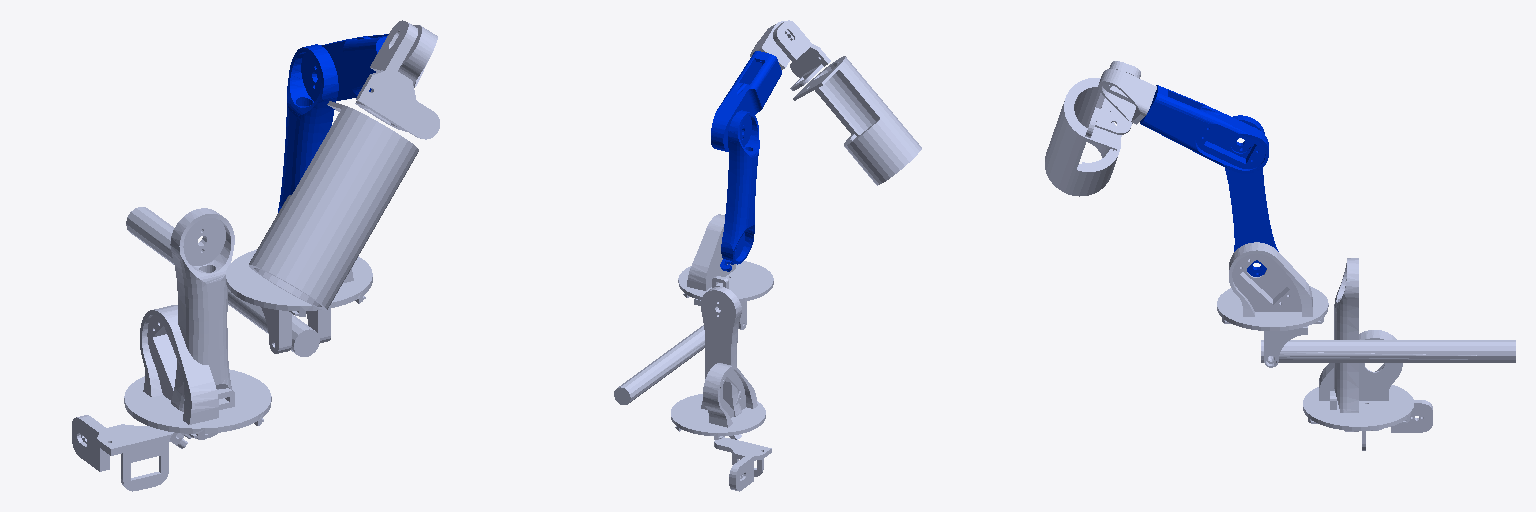
robot.urdf — Robotic Arm:
<?xml version="1.0" encoding="utf-8"?>
<!-- This URDF was automatically created by SolidWorks to URDF Exporter! Originally created by [author] ([email redacted]) 
     Commit Version: 1.5.1-0-g916b5db  Build Version: 1.5.7152.31018
     For more information, please see http://wiki.ros.org/sw_urdf_exporter -->
<robot
  name="Robotic Arm">
  <link
    name="base_link">
    <inertial>
      <origin
        xyz="0.0354275091164067 0.0860531596196477 0.00648548293590935"
        rpy="0 0 0" />
      <mass
        value="0.275032782312545" />
      <inertia
        ixx="0.000810030844367955"
        ixy="-5.73621090192133E-06"
        ixz="-6.15057500267126E-07"
        iyy="0.000808938381015043"
        iyz="-5.42961156778192E-06"
        izz="6.27510063140814E-05" />
    </inertial>
    <visual>
      <origin
        xyz="0 0 0"
        rpy="0 0 0" />
      <geometry>
        <mesh
          filename="package://Robotic Arm/meshes/base_link.STL" />
      </geometry>
      <material
        name="">
        <color
          rgba="0.796078431372549 0.823529411764706 0.937254901960784 1" />
      </material>
    </visual>
    <collision>
      <origin
        xyz="0 0 0"
        rpy="0 0 0" />
      <geometry>
        <mesh
          filename="package://Robotic Arm/meshes/base_link.STL" />
      </geometry>
    </collision>
  </link>
  <link
    name="link_1">
    <inertial>
      <origin
        xyz="-0.000393315930239273 0.0553475593437023 -0.0103842235740476"
        rpy="0 0 0" />
      <mass
        value="0.135904321358194" />
      <inertia
        ixx="0.000173351570610532"
        ixy="5.82675705255485E-06"
        ixz="-6.99195144228511E-07"
        iyy="6.91908019440323E-05"
        iyz="1.77097267020921E-05"
        izz="0.000153884357507163" />
    </inertial>
    <visual>
      <origin
        xyz="0 0 0"
        rpy="0 0 0" />
      <geometry>
        <mesh
          filename="package://Robotic Arm/meshes/link_1.STL" />
      </geometry>
      <material
        name="">
        <color
          rgba="0.792156862745098 0.819607843137255 0.933333333333333 1" />
      </material>
    </visual>
    <collision>
      <origin
        xyz="0 0 0"
        rpy="0 0 0" />
      <geometry>
        <mesh
          filename="package://Robotic Arm/meshes/link_1.STL" />
      </geometry>
    </collision>
  </link>
  <joint
    name="JOINT_1"
    type="planar">
    <origin
      xyz="0.033862 -0.074577 0.11126"
      rpy="1.5708 0 3.1416" />
    <parent
      link="base_link" />
    <child
      link="link_1" />
    <axis
      xyz="0 0 0" />
  </joint>
  <link
    name="linK_2">
    <inertial>
      <origin
        xyz="0.0141702157268695 0.0951964093832231 -0.000288116620240093"
        rpy="0 0 0" />
      <mass
        value="0.114660978957132" />
      <inertia
        ixx="0.000130416679289904"
        ixy="-2.09773812627836E-05"
        ixz="2.39117651111217E-07"
        iyy="4.96191430822004E-05"
        iyz="3.9962444469317E-07"
        izz="0.000169993769730356" />
    </inertial>
    <visual>
      <origin
        xyz="0 0 0"
        rpy="0 0 0" />
      <geometry>
        <mesh
          filename="package://Robotic Arm/meshes/linK_2.STL" />
      </geometry>
      <material
        name="">
        <color
          rgba="0 0.254901960784314 0.92156862745098 1" />
      </material>
    </visual>
    <collision>
      <origin
        xyz="0 0 0"
        rpy="0 0 0" />
      <geometry>
        <mesh
          filename="package://Robotic Arm/meshes/linK_2.STL" />
      </geometry>
    </collision>
  </link>
  <joint
    name="JOINT_2"
    type="revolute">
    <origin
      xyz="-0.0018 0.040453 -0.013742"
      rpy="-1.5708 1.4535 -1.5708" />
    <parent
      link="link_1" />
    <child
      link="linK_2" />
    <axis
      xyz="0 0 0" />
    <limit
      lower="0"
      upper="0"
      effort="0"
      velocity="0" />
  </joint>
  <link
    name="LINK_3">
    <inertial>
      <origin
        xyz="-0.00716145222433959 0.053598662690554 -0.00750767047233196"
        rpy="0 0 0" />
      <mass
        value="0.0333720263204095" />
      <inertia
        ixx="8.62219883298596E-06"
        ixy="-2.84700139414277E-08"
        ixz="2.54177997994455E-06"
        iyy="1.20168522527192E-05"
        iyz="4.22972433397009E-07"
        izz="1.24475265556569E-05" />
    </inertial>
    <visual>
      <origin
        xyz="0 0 0"
        rpy="0 0 0" />
      <geometry>
        <mesh
          filename="package://Robotic Arm/meshes/LINK_3.STL" />
      </geometry>
      <material
        name="">
        <color
          rgba="0.792156862745098 0.819607843137255 0.933333333333333 1" />
      </material>
    </visual>
    <collision>
      <origin
        xyz="0 0 0"
        rpy="0 0 0" />
      <geometry>
        <mesh
          filename="package://Robotic Arm/meshes/LINK_3.STL" />
      </geometry>
    </collision>
  </link>
  <joint
    name="joint_3"
    type="continuous">
    <origin
      xyz="0.053616 0.14982 -0.0107"
      rpy="3.1416 0.73506 2.1608" />
    <parent
      link="linK_2" />
    <child
      link="LINK_3" />
    <axis
      xyz="0 1 0" />
  </joint>
  <link
    name="link_4">
    <inertial>
      <origin
        xyz="-0.0058019600376987 0.0157070940891549 0.111375176311267"
        rpy="0 0 0" />
      <mass
        value="0.143983849137224" />
      <inertia
        ixx="0.00020807815737997"
        ixy="-5.43151883451144E-07"
        ixz="-2.53143153196137E-06"
        iyy="0.000214709116341721"
        iyz="2.1892872754879E-05"
        izz="8.54219878142615E-05" />
    </inertial>
    <visual>
      <origin
        xyz="0 0 0"
        rpy="0 0 0" />
      <geometry>
        <mesh
          filename="package://Robotic Arm/meshes/link_4.STL" />
      </geometry>
      <material
        name="">
        <color
          rgba="0.792156862745098 0.819607843137255 0.933333333333333 1" />
      </material>
    </visual>
    <collision>
      <origin
        xyz="0 0 0"
        rpy="0 0 0" />
      <geometry>
        <mesh
          filename="package://Robotic Arm/meshes/link_4.STL" />
      </geometry>
    </collision>
  </link>
  <joint
    name="joint_4"
    type="revolute">
    <origin
      xyz="0.005 0.058457 0"
      rpy="1.1704 -1.5708 -0.95393" />
    <parent
      link="LINK_3" />
    <child
      link="link_4" />
    <axis
      xyz="1 0 0" />
    <limit
      lower="0"
      upper="0"
      effort="0"
      velocity="0" />
  </joint>
</robot>

--- Facts derived from the render (not from the file) ---
3 views of the same robot in one strip: view 1: azimuth 30°, elevation 25°; view 2: azimuth 150°, elevation 25°; view 3: azimuth 270°, elevation 25° (orthographic).
Robot: Robotic Arm — 5 links, 4 joints (2 revolute, 1 continuous, 1 planar); root link base_link; default pose: all joints at 0.
Links seen in each view (by area): view 1: link_4, base_link, link_1, linK_2, LINK_3; view 2: link_4, linK_2, link_1, base_link, LINK_3; view 3: base_link, link_1, linK_2, link_4, LINK_3.
Link boxes in pixels (box(x1,y1,x2,y2)): link_4: box(249, 20, 439, 310); base_link: box(124, 207, 330, 439); link_1: box(170, 208, 372, 448); linK_2: box(278, 34, 388, 212); LINK_3: box(72, 25, 437, 491); link_4: box(773, 20, 921, 185); linK_2: box(711, 51, 781, 271); link_1: box(678, 214, 773, 439); base_link: box(614, 299, 765, 439); LINK_3: box(714, 21, 789, 491); base_link: box(1261, 326, 1515, 430); link_1: box(1217, 242, 1358, 431); linK_2: box(1140, 85, 1278, 276); link_4: box(1045, 61, 1140, 196); LINK_3: box(1098, 69, 1432, 450).
Size in the robot's own frame: 0.1771 by 0.409 by 0.4049 metres.
Meshes: 5 distinct files referenced, 5 mesh visuals loaded (5 binary STL).